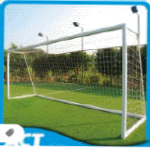goals: (6, 23, 145, 139)
